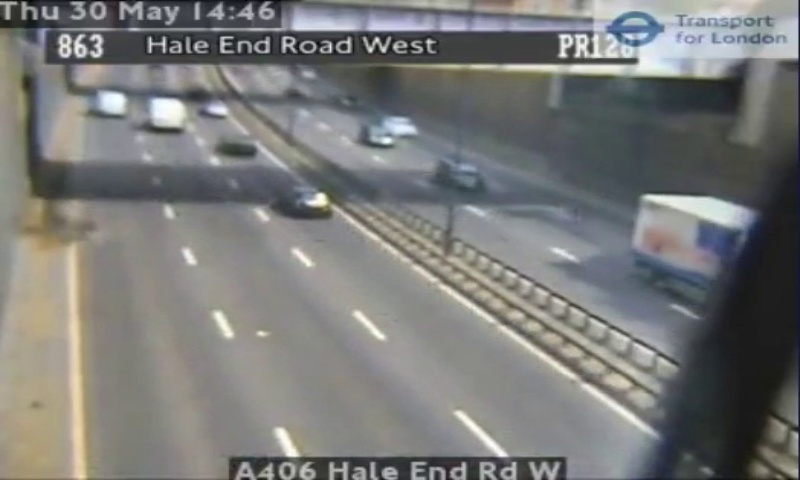car: (274, 186, 331, 215)
van: (148, 99, 186, 130)
